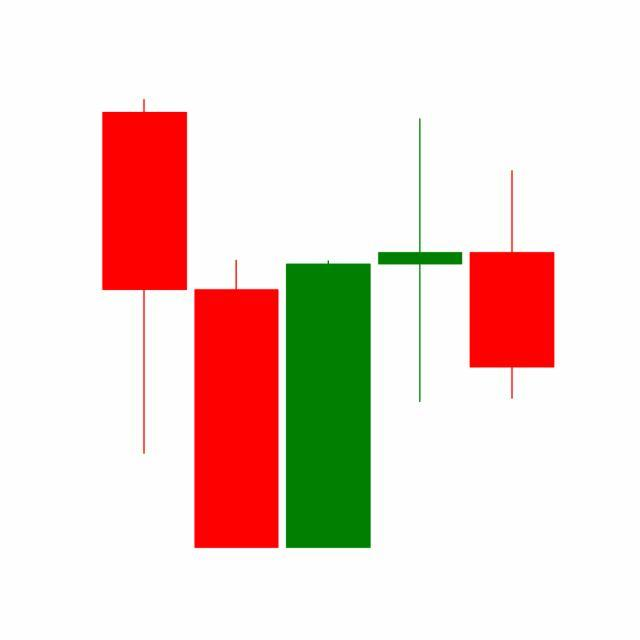Spinning Top: (374, 116, 468, 407)
